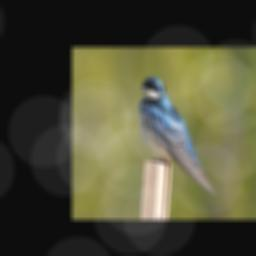Swallow: (138, 72, 217, 199)
